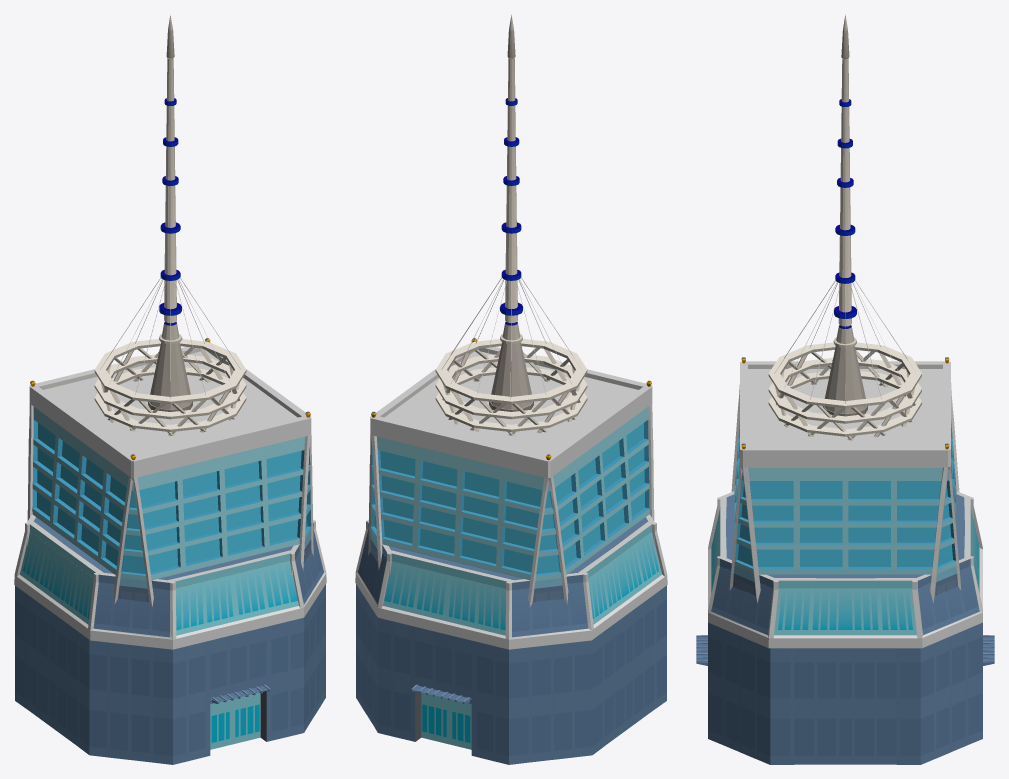
3 renders of one model, left to right at view 1: azimuth 30°, elevation 25°; view 2: azimuth 150°, elevation 25°; view 3: azimuth 270°, elevation 25°, orthographic.
Visible parts, largest first — view 1: oneBase, oneTop, oneTowerTop, oneMid; view 2: oneBase, oneTop, oneTowerTop, oneMid; view 3: oneBase, oneTop, oneTowerTop, oneMid.
Boxes of the visible parts, x1,y1,x2,y2 form: oneBase: [14, 529, 326, 764]; oneTop: [27, 338, 313, 749]; oneTowerTop: [94, 14, 246, 435]; oneMid: [25, 514, 315, 748]; oneBase: [355, 529, 667, 764]; oneTop: [368, 338, 654, 635]; oneTowerTop: [435, 15, 587, 435]; oneMid: [366, 514, 656, 749]; oneBase: [696, 506, 994, 764]; oneTop: [729, 357, 961, 621]; oneTowerTop: [768, 14, 921, 440]; oneMid: [717, 491, 973, 603].
Size of the model in its own units: 0.7022 by 1.94 by 0.7581.
